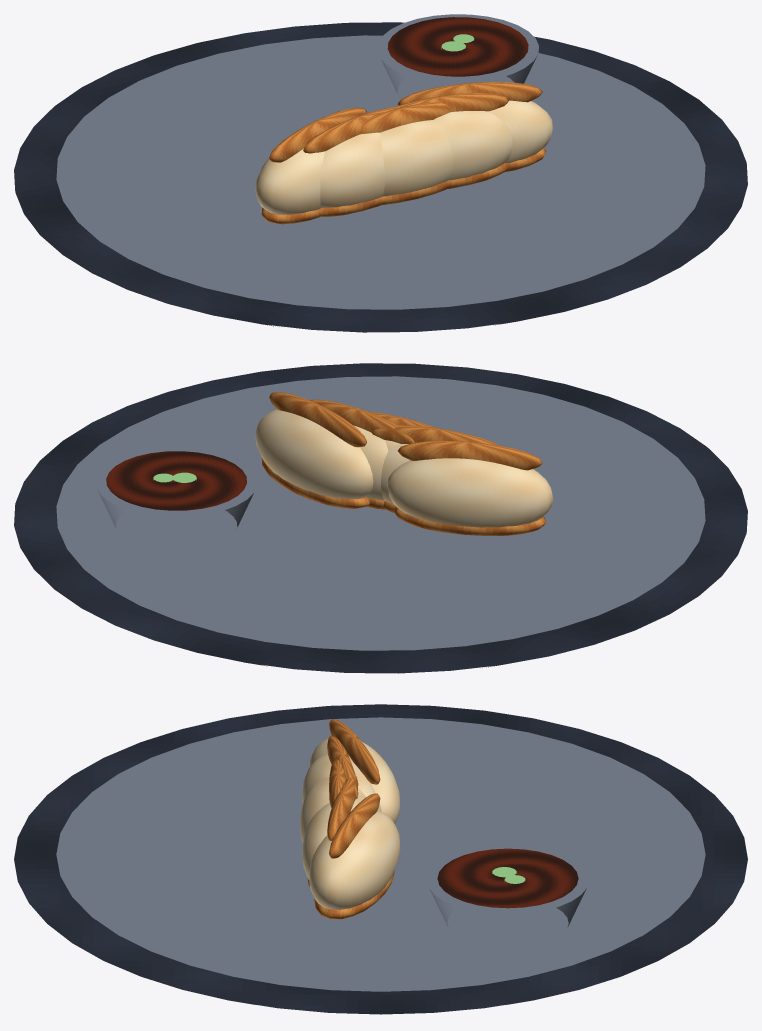
The model's file is gyozas.glb.
The picture shows the model from 3 angles, top to bottom: view 1: azimuth 30°, elevation 25°; view 2: azimuth 150°, elevation 25°; view 3: azimuth 270°, elevation 25°; orthographic projection.
Parts seen in each view (by area): view 1: PlateInnerWell, PlateBase, SoyLiquidSurface, GyozaBody_3, GyozaBody_2, GyozaBody_4, GyozaBody_1, SoyDipBowl, GyozaBody_5, GyozaPleatedCrest_5, GyozaPleatedCrest_1, GyozaPleatedCrest_3 (+5 smaller); view 2: PlateInnerWell, PlateBase, GyozaBody_1, GyozaBody_5, SoyLiquidSurface, SoyDipBowl, GyozaPleatedCrest_1, GyozaPleatedCrest_5, GyozaSearedBase_1, GyozaPleatedCrest_4, GyozaPleatedCrest_2, GyozaBody_4 (+2 smaller); view 3: PlateInnerWell, PlateBase, SoyLiquidSurface, GyozaBody_5, SoyDipBowl, GyozaBody_1, GyozaPleatedCrest_5, GyozaPleatedCrest_1, GyozaBody_4, GyozaBody_2, GyozaPleatedCrest_4, GyozaBody_3 (+3 smaller).
Boxes of the visible parts, x1,y1,x2,y2 form: PlateInnerWell: [56, 35, 705, 309]; PlateBase: [14, 22, 747, 332]; SoyLiquidSurface: [387, 17, 528, 76]; GyozaBody_3: [380, 120, 453, 196]; GyozaBody_2: [320, 132, 384, 207]; GyozaBody_4: [433, 111, 512, 180]; GyozaBody_1: [255, 148, 325, 214]; SoyDipBowl: [377, 14, 538, 93]; GyozaBody_5: [489, 100, 553, 163]; GyozaPleatedCrest_5: [397, 82, 542, 105]; GyozaPleatedCrest_1: [269, 107, 366, 162]; GyozaPleatedCrest_3: [360, 102, 450, 134]; PlateInnerWell: [56, 376, 705, 650]; PlateBase: [14, 363, 747, 673]; GyozaBody_1: [387, 458, 553, 527]; GyozaBody_5: [255, 409, 373, 499]; SoyLiquidSurface: [106, 451, 246, 510]; SoyDipBowl: [95, 448, 257, 531]; GyozaPleatedCrest_1: [397, 441, 542, 470]; GyozaPleatedCrest_5: [269, 392, 366, 447]; GyozaSearedBase_1: [394, 506, 546, 535]; GyozaPleatedCrest_4: [310, 399, 414, 443]; GyozaPleatedCrest_2: [372, 425, 498, 445]; GyozaBody_4: [354, 425, 388, 500]; PlateInnerWell: [56, 717, 705, 991]; PlateBase: [14, 704, 747, 1014]; SoyLiquidSurface: [437, 848, 578, 908]; GyozaBody_5: [309, 811, 400, 909]; SoyDipBowl: [427, 845, 588, 927]; GyozaBody_1: [309, 738, 400, 823]; GyozaPleatedCrest_5: [329, 793, 380, 858]; GyozaPleatedCrest_1: [329, 719, 380, 784]; GyozaBody_4: [302, 795, 377, 879]; GyozaBody_2: [302, 754, 381, 812]; GyozaPleatedCrest_4: [327, 775, 358, 840]; GyozaBody_3: [300, 777, 365, 843].
Bounding box in the file's own units: 2.08 × 0.365 × 2.08.
6 materials, 4 textured.
